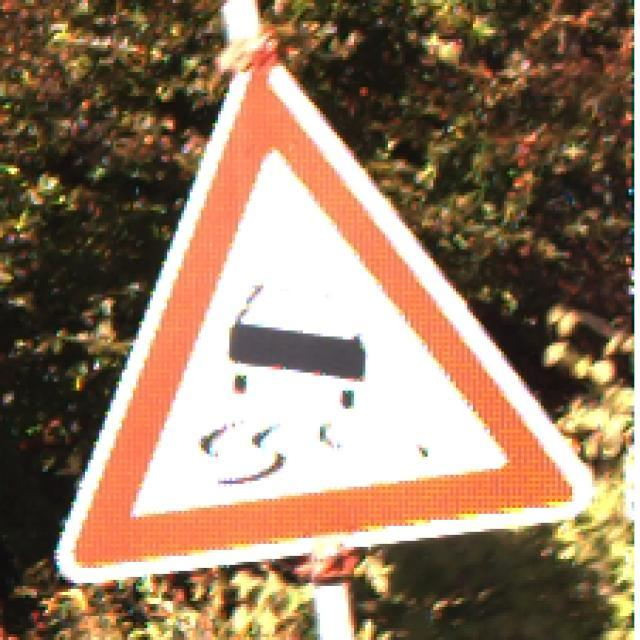slippery road: (55, 53, 599, 566)
